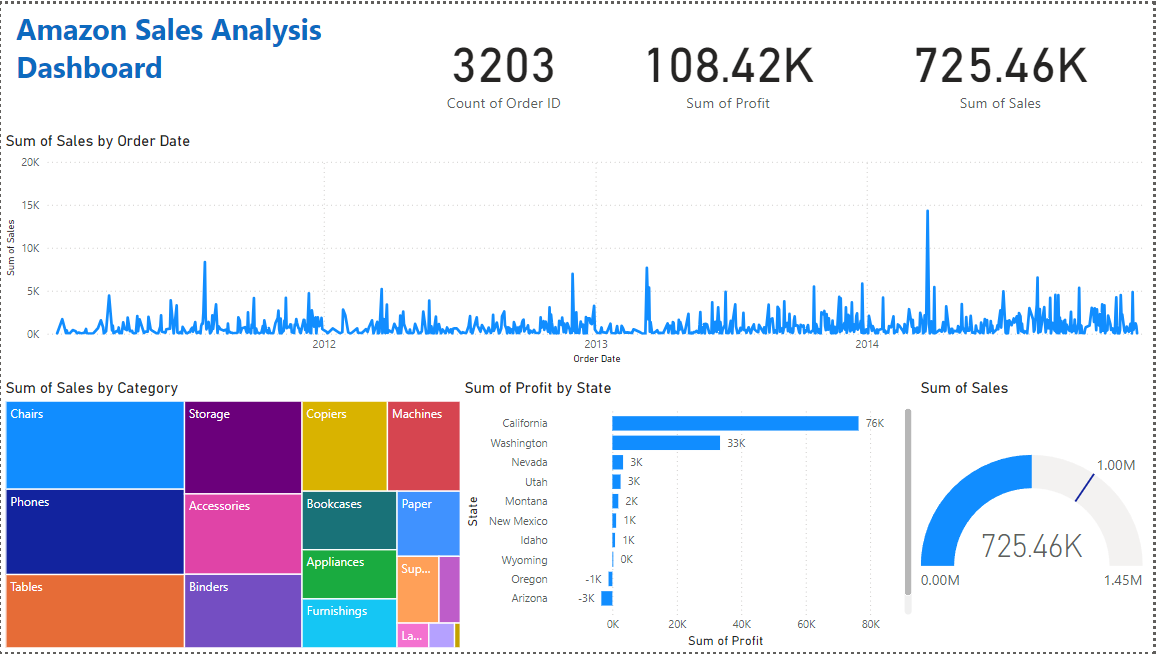

This screenshot's page, from the dashboard's own definition file:
{"tool":"powerbi","page":{"name":"Page 1","canvas":[1280,720],"ordinal":0},"visuals":[{"type":"card","fields":{"Values":["Sum(Walmart.Sales)"]},"box":[940,0,340,141.7],"z":0},{"type":"card","fields":{"Values":["Sum(Walmart.Profit)"]},"box":[640,0,335,141.7],"z":1000},{"type":"card","fields":{"Values":["CountNonNull(Walmart.Order ID)"]},"box":[403.3,0,310,141.7],"z":2000},{"type":"lineChart","fields":{"Category":["Walmart.Order Date"],"Y":["Sum(Walmart.Sales)"]},"box":[0,141.7,1280,263.3],"z":3000},{"type":"treemap","fields":{"Group":["Walmart.Category"],"Values":["Sum(Walmart.Sales)"]},"box":[0,416.7,515,303.3],"z":4000},{"type":"barChart","fields":{"Category":["Walmart.State"],"Y":["Sum(Walmart.Profit)"]},"box":[510,416.7,506.7,303.3],"z":4002},{"type":"gauge","fields":{"Y":["Sum(Walmart.Sales)"]},"box":[1016.7,416.7,256.7,303.3],"z":4003},{"type":"textbox","box":[11.7,0,450,126.7],"z":4004}]}

Visuals, with their boxes in screenshot pixels (x1, y1, x2, y2), scaled from the page's 1280x720 canvas onto the 1156x654 screenshot:
card - Sum(Walmart.Sales): bbox=(849, 0, 1155, 129)
card - Sum(Walmart.Profit): bbox=(578, 0, 881, 129)
card - CountNonNull(Walmart.Order ID): bbox=(364, 0, 644, 129)
lineChart - Walmart.Order Date x Sum(Walmart.Sales): bbox=(0, 129, 1155, 368)
treemap - Walmart.Category x Sum(Walmart.Sales): bbox=(0, 379, 465, 653)
barChart - Walmart.State x Sum(Walmart.Profit): bbox=(461, 379, 918, 653)
gauge - Sum(Walmart.Sales): bbox=(918, 379, 1150, 653)
textbox: bbox=(11, 0, 417, 115)
